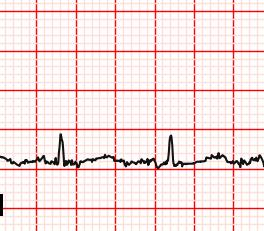Poor R Progression: (164, 132, 179, 172)
